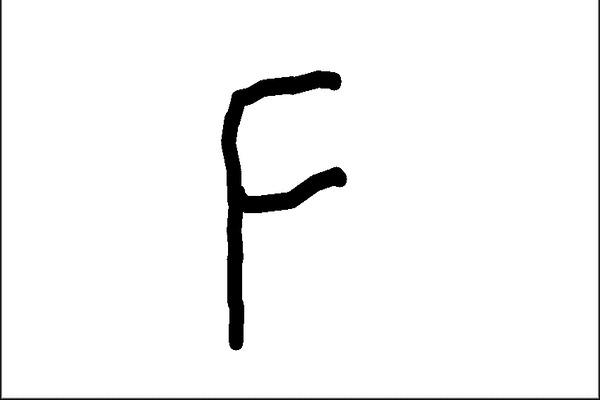F: (213, 64, 358, 354)
